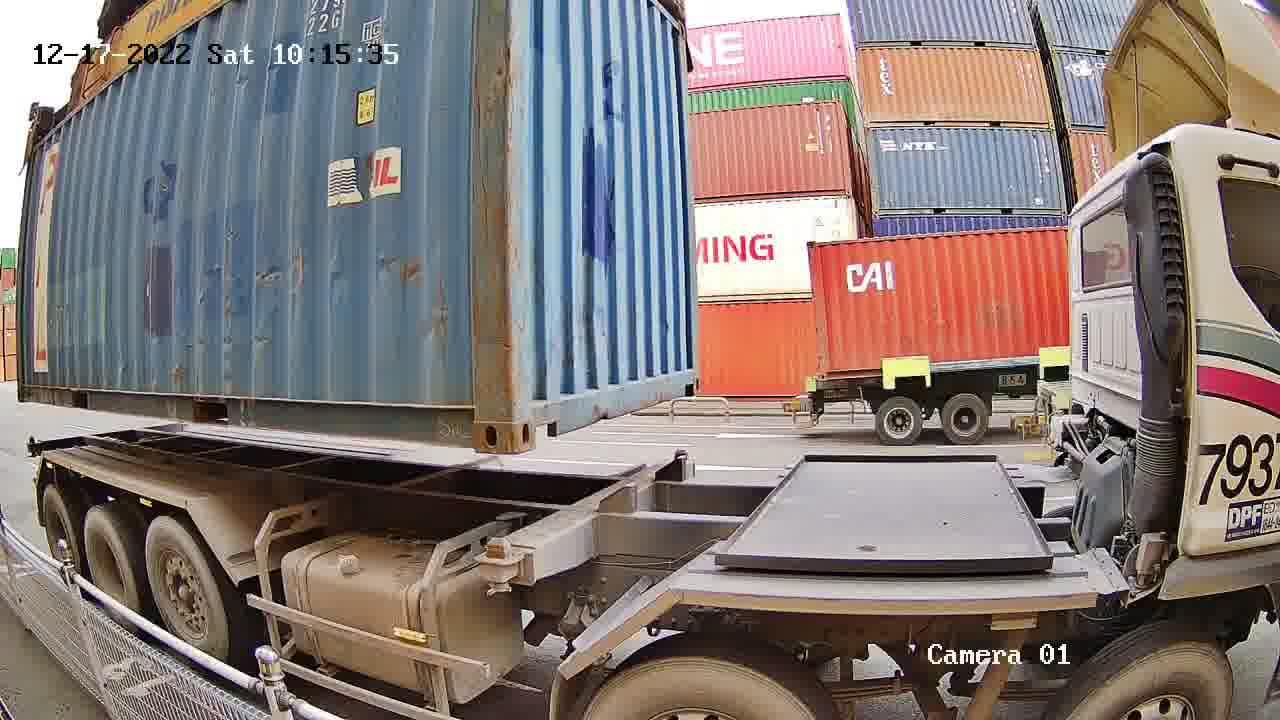Chassis: (501, 460, 691, 574)
Cone: (472, 535, 520, 595)
Hole_L: (514, 381, 564, 454)
Hole_R: (443, 386, 511, 455), (673, 360, 700, 399)
Tire: (147, 518, 227, 656), (85, 513, 137, 628), (43, 492, 79, 585)
